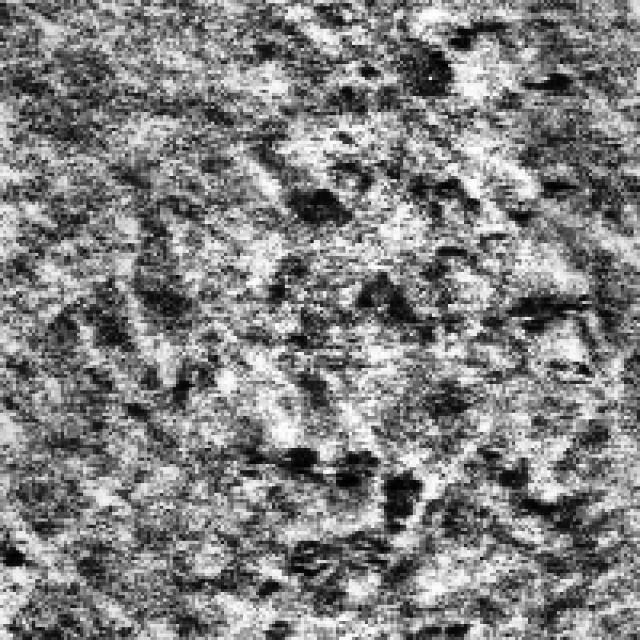Crazing: (310, 128, 605, 384), (204, 406, 518, 634)
